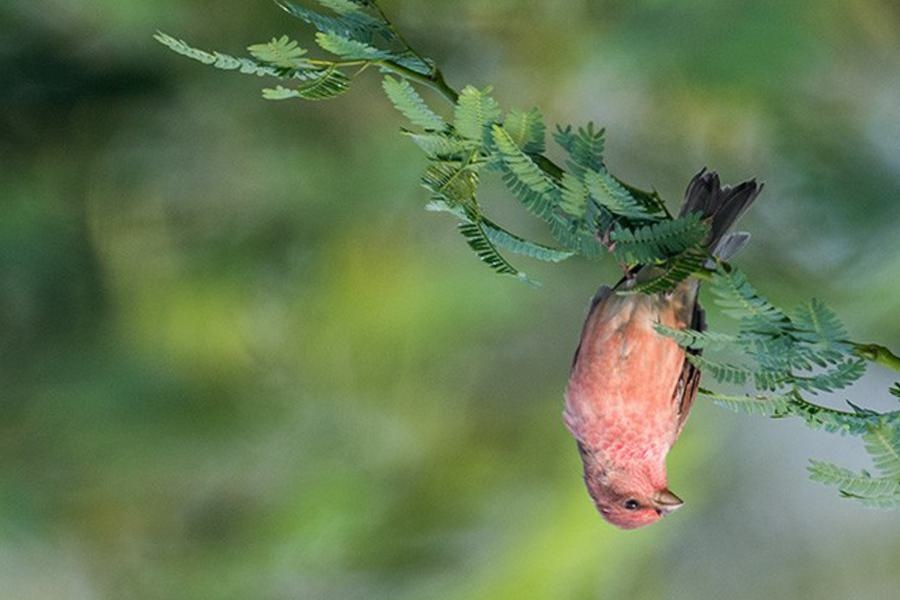rosefinch: (572, 238, 686, 529)
